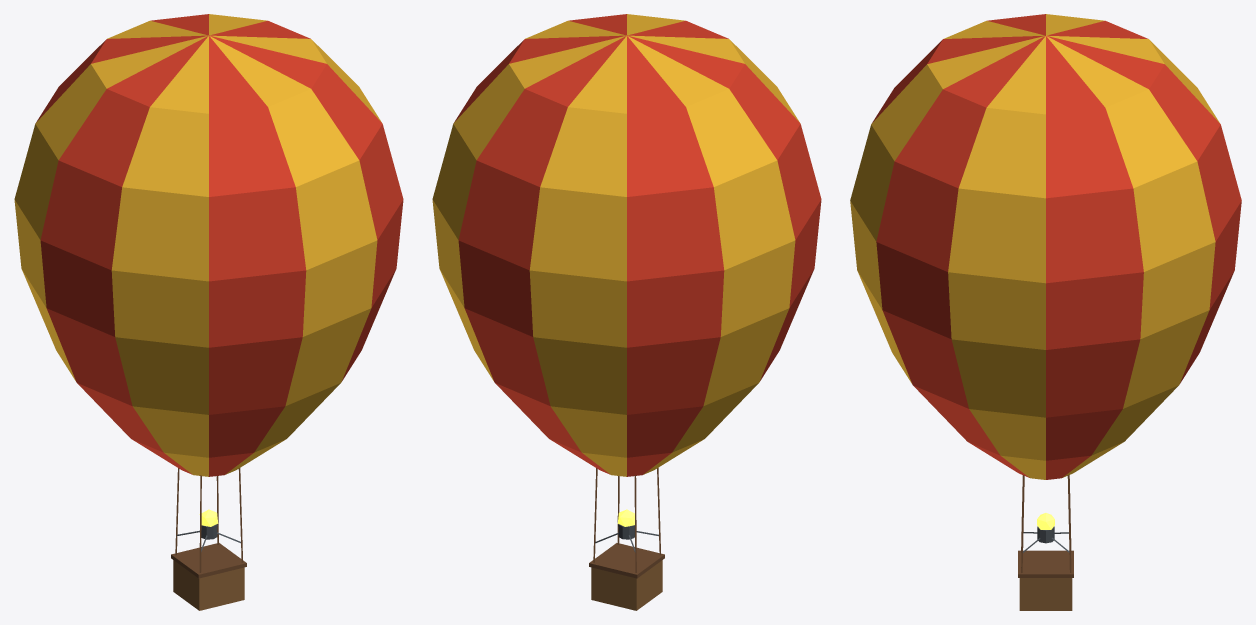
The model's file is ballong_1.glb.
3 views of the same model, side by side, from view 1: azimuth 30°, elevation 25°; view 2: azimuth 150°, elevation 25°; view 3: azimuth 270°, elevation 25° (orthographic).
Visible parts, largest first — view 1: ballong_1; view 2: ballong_1; view 3: ballong_1.
Boxes of the visible parts, box(x1,y1,x2,y2) form: ballong_1: box(14, 14, 403, 610); ballong_1: box(432, 14, 821, 610); ballong_1: box(850, 14, 1241, 610).
Bounding box in the file's own units: 11.2 × 17.8 × 11.2.
